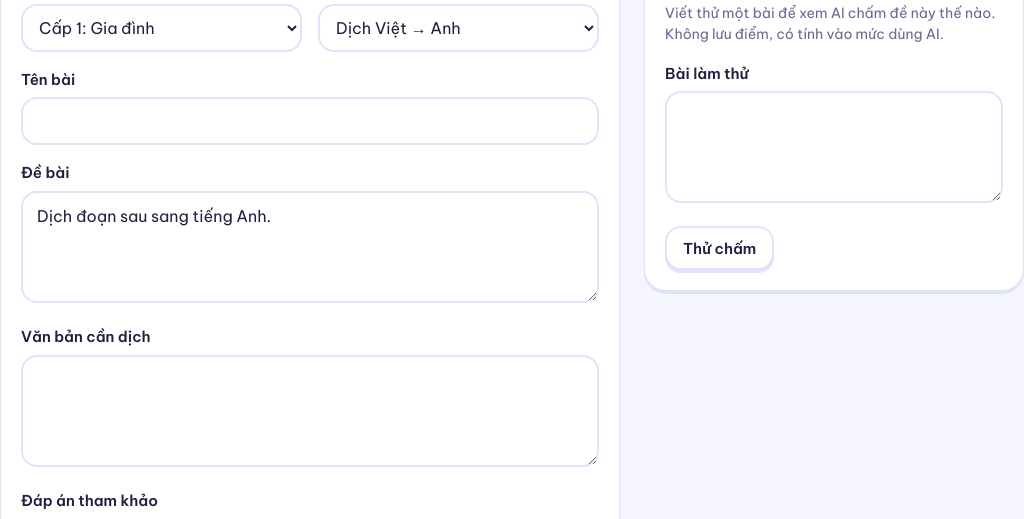
Test case: shows translation fields only for translation types
Select "Viết đoạn văn" in the dropdown labelled "Loại bài". click: (458, 28)
box: [318, 4, 599, 52]
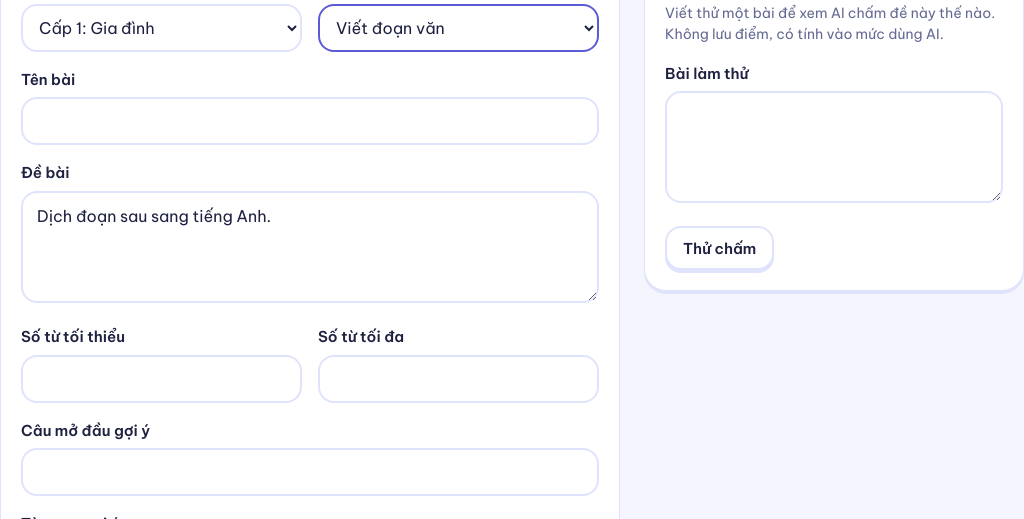
expect the label labelled "Văn bản cần dịch" is gone: met
expect the field labelled "Số từ tối thiểu" is shown: met, box [21, 355, 302, 403]
Select "Dịch Việt → Anh" in the dropdown labelled "Loại bài". click: (458, 28)
box: [318, 4, 599, 52]
(page scrolled)
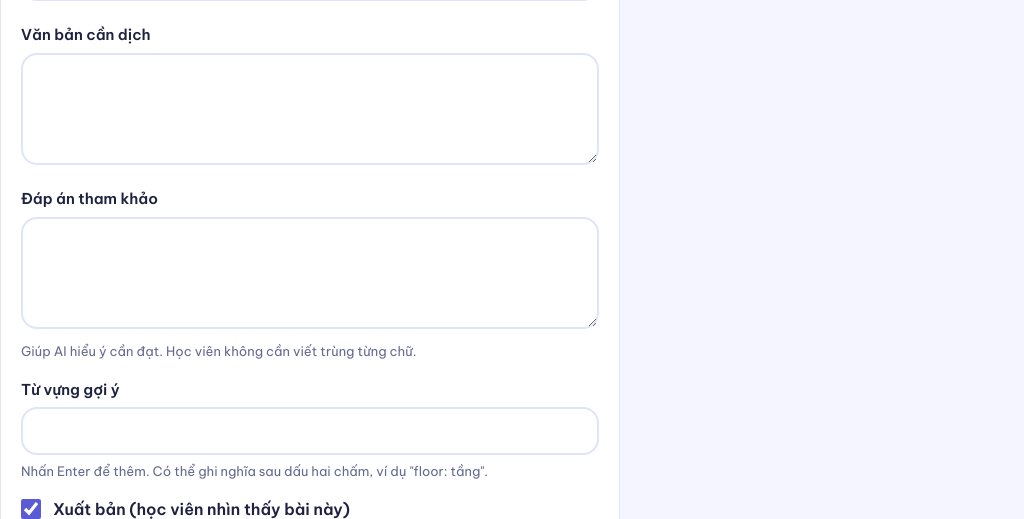
expect the text box labelled "Văn bản cần dịch" is shown: met, box [21, 53, 599, 165]
expect the text box labelled "Đáp án tham khảo" is shown: met, box [21, 217, 599, 329]
expect the label labelled "Số từ tối thiểu" is gone: met
